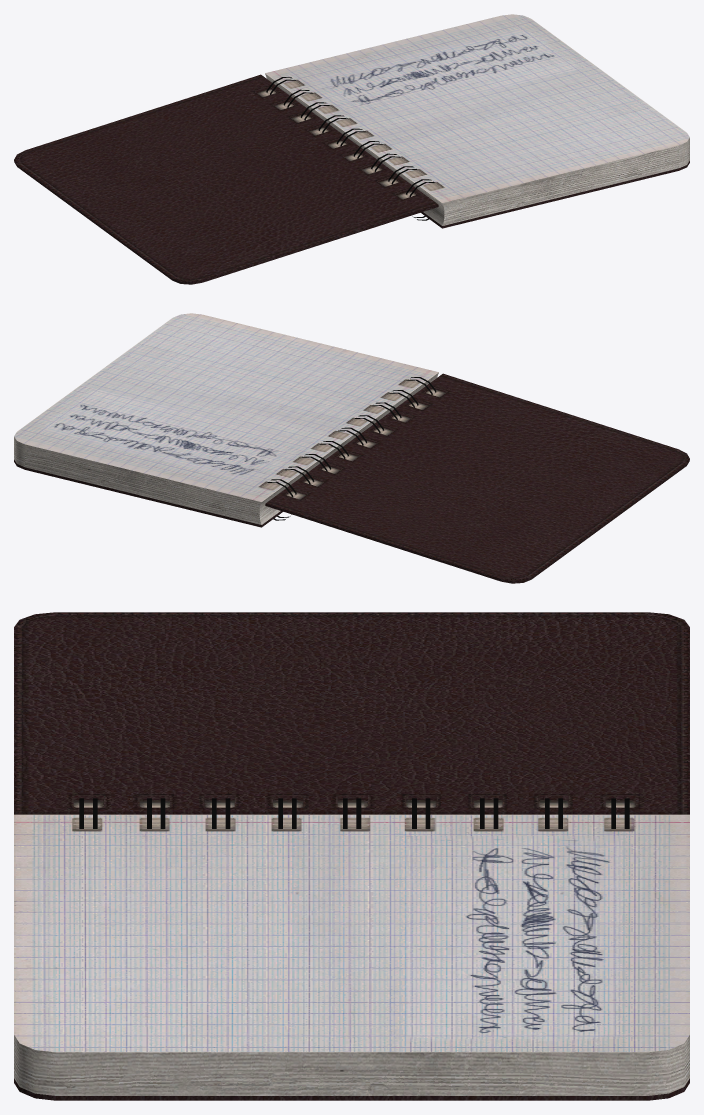
File: book_notebook_erins_open_wau.dae
3 renders of one model, top to bottom at view 1: azimuth 30°, elevation 25°; view 2: azimuth 150°, elevation 25°; view 3: azimuth 270°, elevation 25°, orthographic. The views are drawn at different scales.
Parts seen in each view (by area): view 1: polySurface56; view 2: polySurface56; view 3: polySurface56.
Boxes of the visible parts, bbox=[...] form: polySurface56: bbox=[14, 14, 689, 284]; polySurface56: bbox=[14, 313, 689, 583]; polySurface56: bbox=[14, 612, 689, 1100].
Size of the model in its own units: 0.4141 by 0.0292 by 0.2473.
